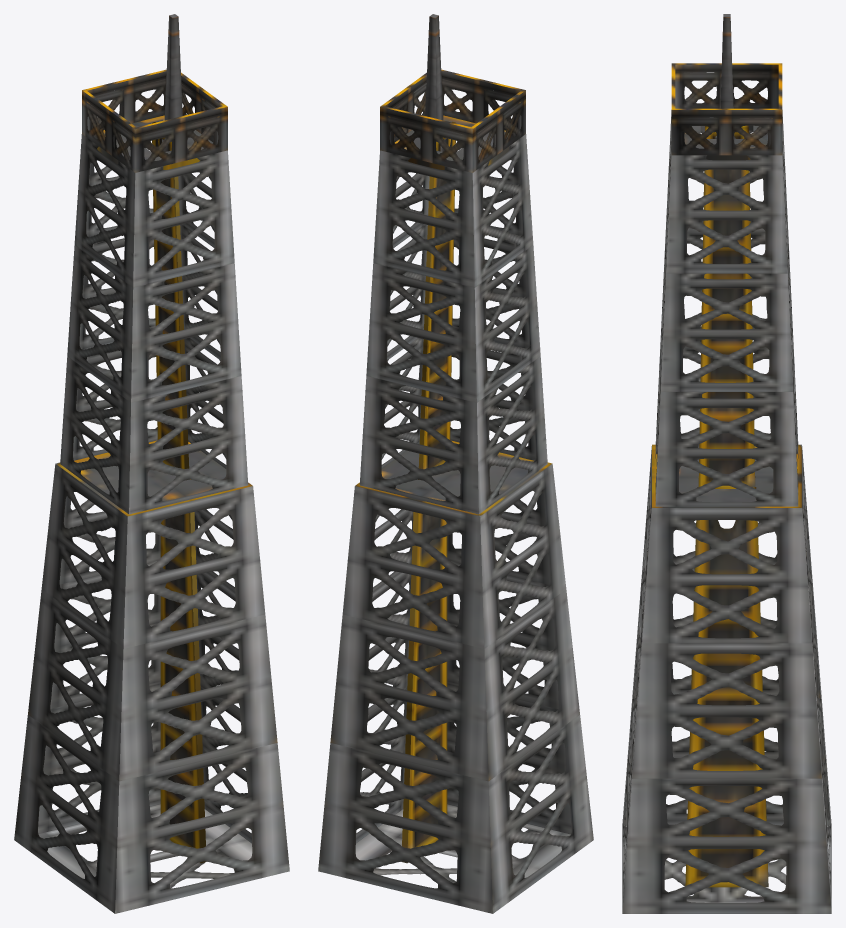
File: radio_tower_01.dae
3 views of the same model, side by side, from view 1: azimuth 30°, elevation 25°; view 2: azimuth 150°, elevation 25°; view 3: azimuth 270°, elevation 25° (orthographic). The views are drawn at different scales.
Visible parts, largest first — view 1: radio_tower_01; view 2: radio_tower_01; view 3: radio_tower_01.
Part boxes in pixels (x1,y1,x2,y2): radio_tower_01: (14,14,289,913); radio_tower_01: (318,14,593,913); radio_tower_01: (622,14,831,913).
Size of the model in its own units: 7.48 by 7.48 by 34.1.
